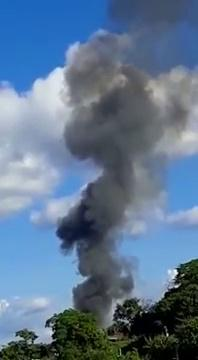smoke: (75, 58, 145, 143), (81, 202, 110, 241), (94, 263, 112, 319)
